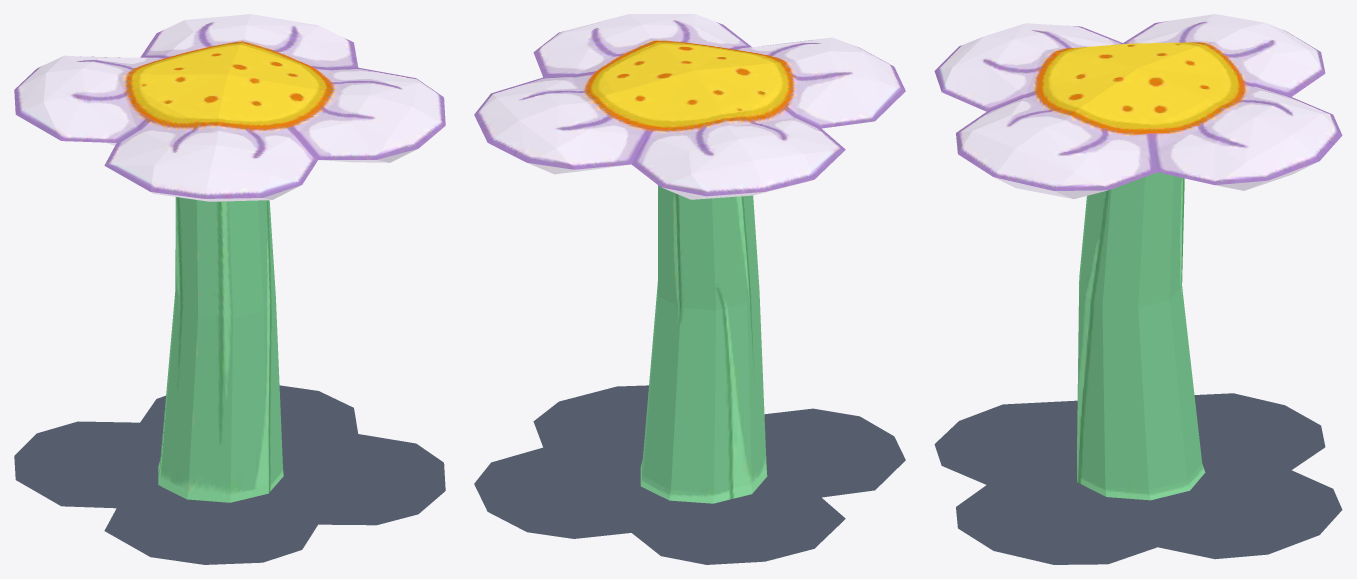
File: MarshmallowyMeadows_Chair.glb
The picture shows the model from 3 angles, left to right: view 1: azimuth 30°, elevation 25°; view 2: azimuth 150°, elevation 25°; view 3: azimuth 270°, elevation 25°; orthographic projection. The views are drawn at different scales.
Parts seen in each view (by area): view 1: MarshmallowyMweadows_Chair_01, Chair_Shadows; view 2: MarshmallowyMweadows_Chair_01, Chair_Shadows; view 3: MarshmallowyMweadows_Chair_01, Chair_Shadows.
Boxes of the visible parts, bbox=[...] form: MarshmallowyMweadows_Chair_01: bbox=[14, 14, 445, 502]; Chair_Shadows: bbox=[14, 385, 445, 564]; MarshmallowyMweadows_Chair_01: bbox=[474, 14, 905, 503]; Chair_Shadows: bbox=[474, 385, 905, 564]; MarshmallowyMweadows_Chair_01: bbox=[934, 14, 1342, 500]; Chair_Shadows: bbox=[934, 393, 1342, 564].
Bounding box in the file's own units: 1.77 × 1.99 × 1.8.
1 material, 1 textured.
